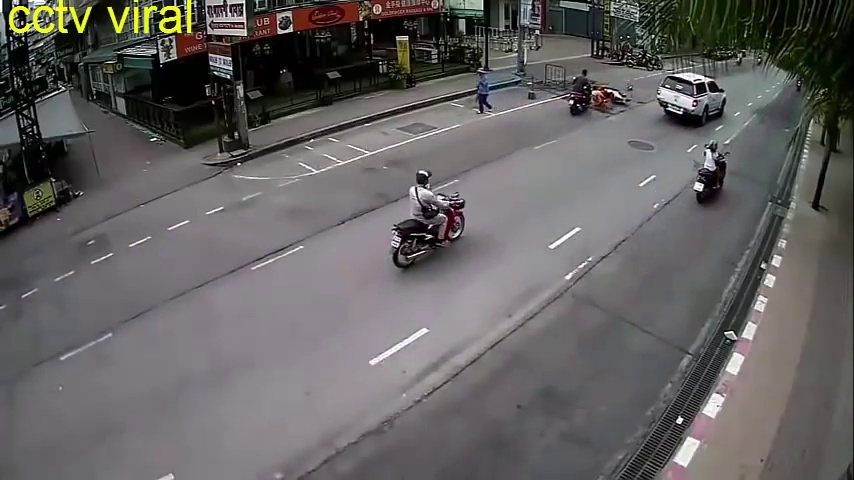car: (657, 73, 725, 124)
motorbike: (391, 168, 468, 265), (696, 141, 727, 205), (566, 68, 591, 117)
